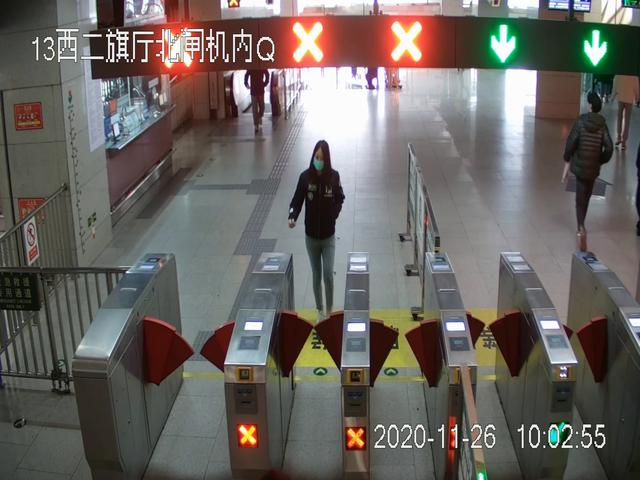person: (287, 139, 346, 324), (562, 89, 614, 253), (243, 68, 269, 131)
